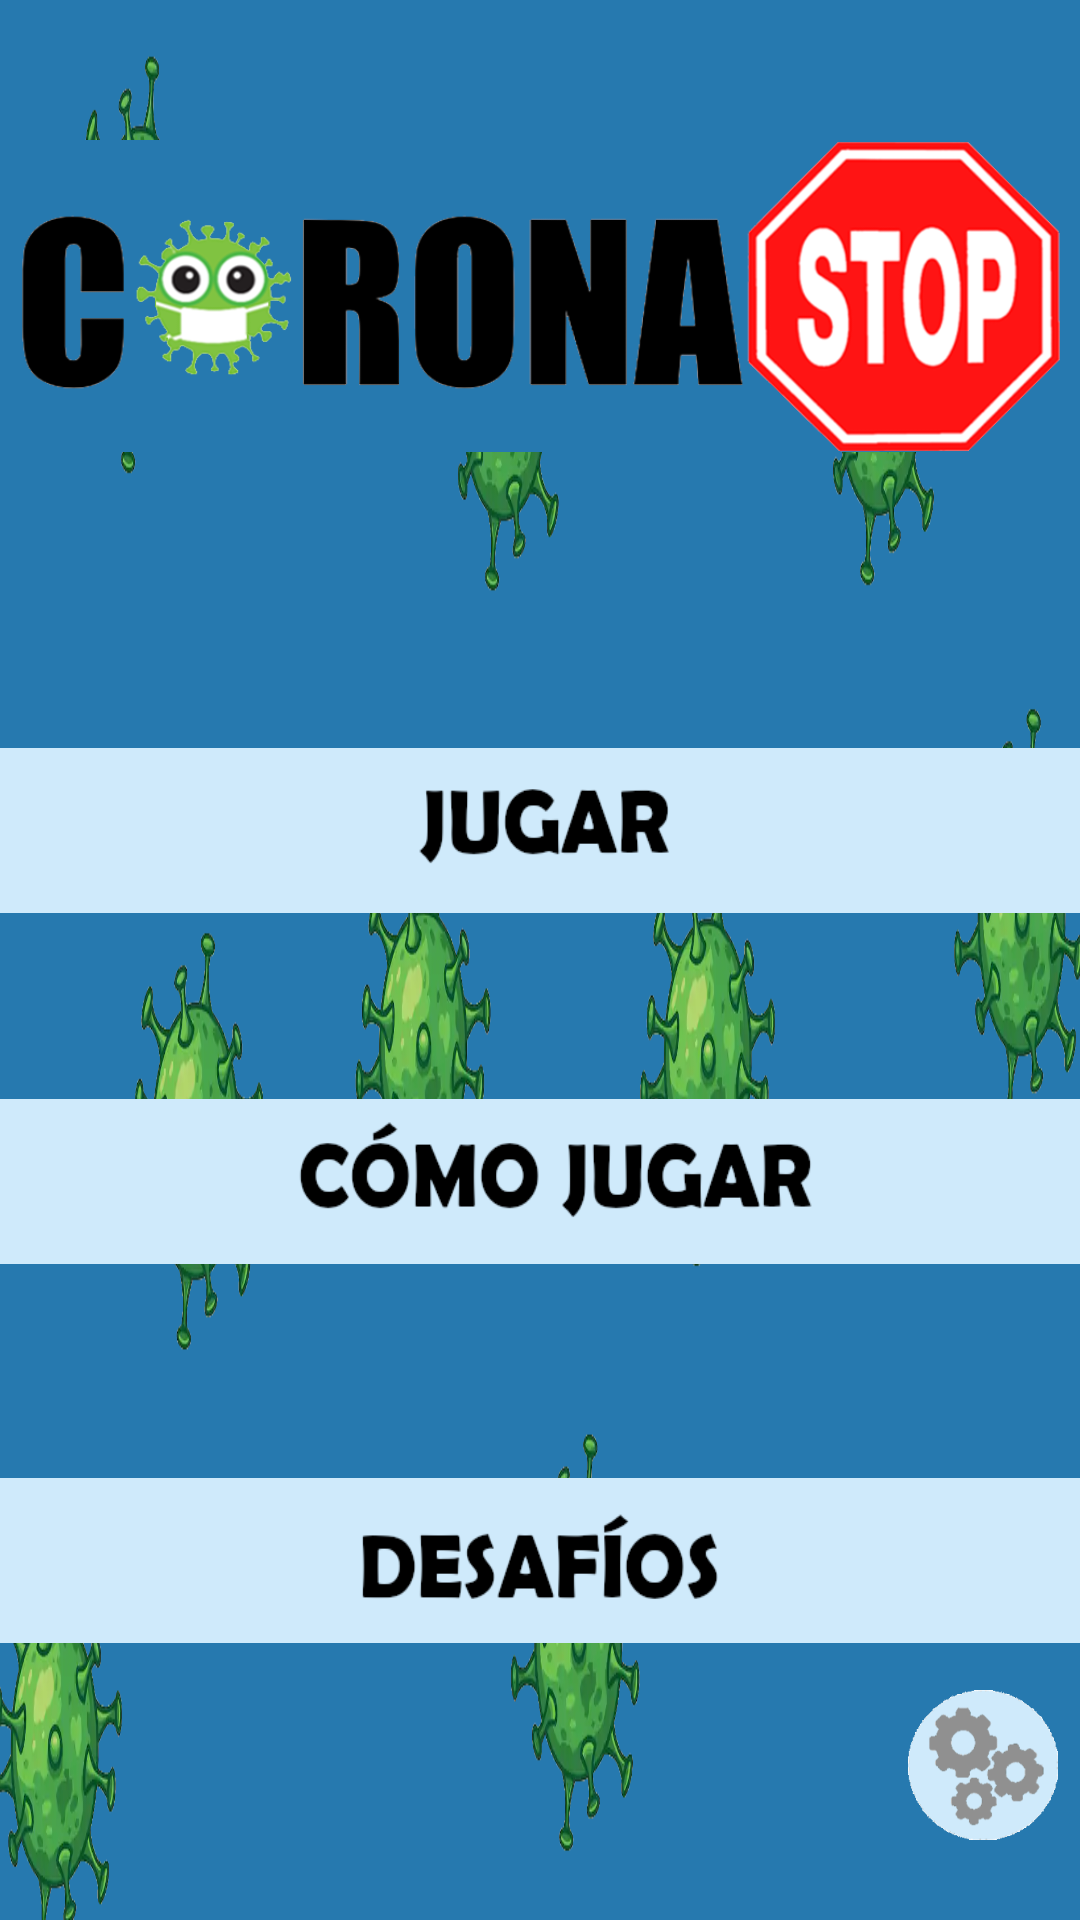

Where icons sit on this 1080 x 1920 app screen, as [x1, y1, x2, y2]:
ajustes: [908, 1690, 1058, 1840]
